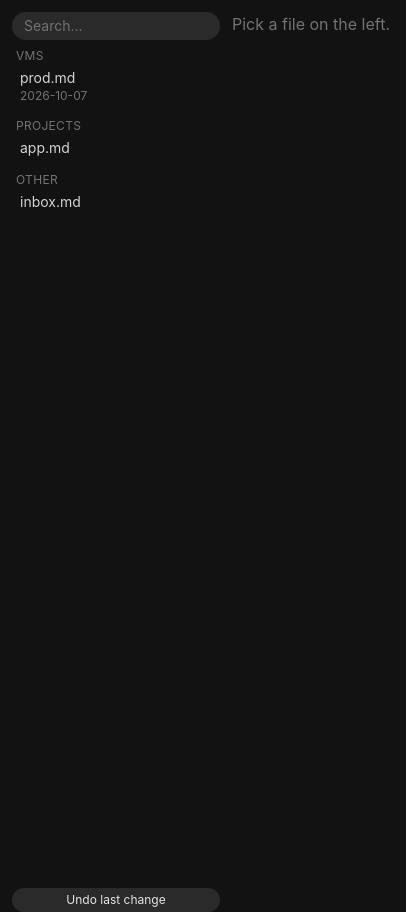
Scenario: Browse › undoes the last change and reloads
Step 1. Click the button "Undo last change" → (116, 900), box [12,888,220,911]
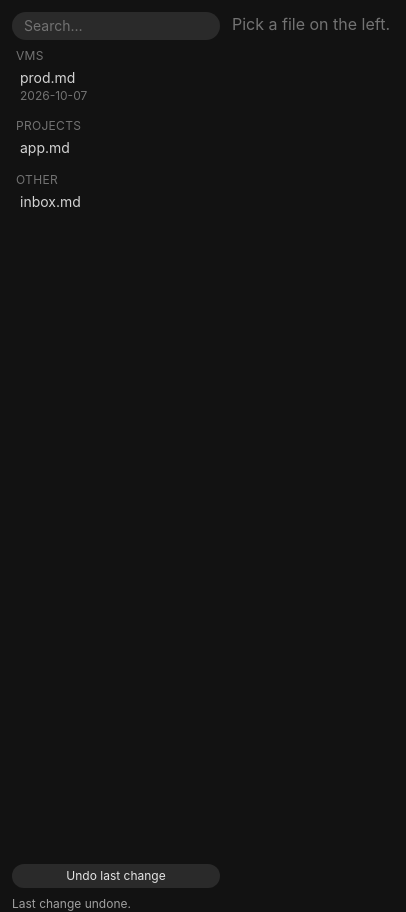
Expected: the text "Last change undone." is shown, [12,896,131,911]
